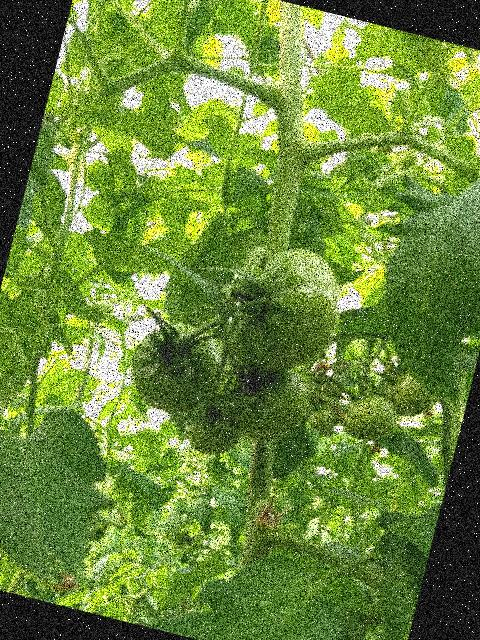b_green: (222, 236, 352, 382), (121, 313, 235, 425), (217, 354, 316, 449), (371, 364, 446, 425), (181, 399, 246, 460), (338, 387, 402, 446), (305, 402, 341, 436)
